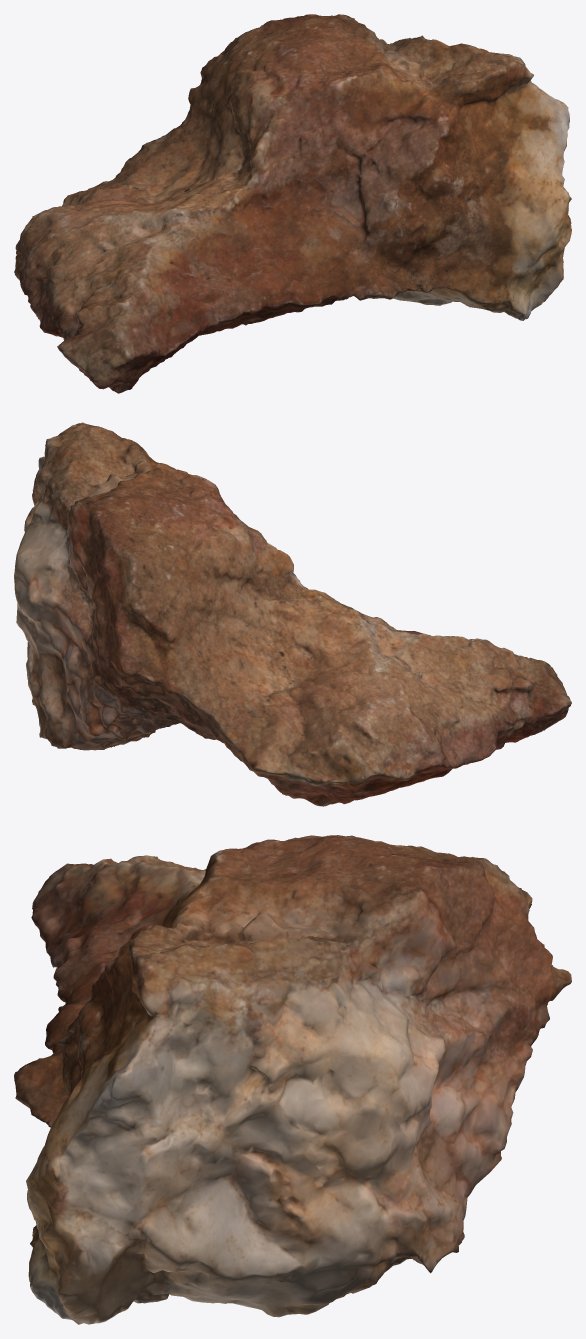
The model's file is stone_01.glb.
3 views of the same model, one above another, from view 1: azimuth 30°, elevation 25°; view 2: azimuth 150°, elevation 25°; view 3: azimuth 270°, elevation 25° (orthographic). The views are drawn at different scales.
Parts seen in each view (by area): view 1: stone_01; view 2: stone_01; view 3: stone_01.
Part boxes in pixels (x1,y1,x2,y2): stone_01: (14, 14, 571, 393); stone_01: (14, 422, 571, 806); stone_01: (14, 835, 571, 1324).
Bounding box in the file's own units: 0.1469 × 0.0718 × 0.0891.
1 material, 1 textured.
